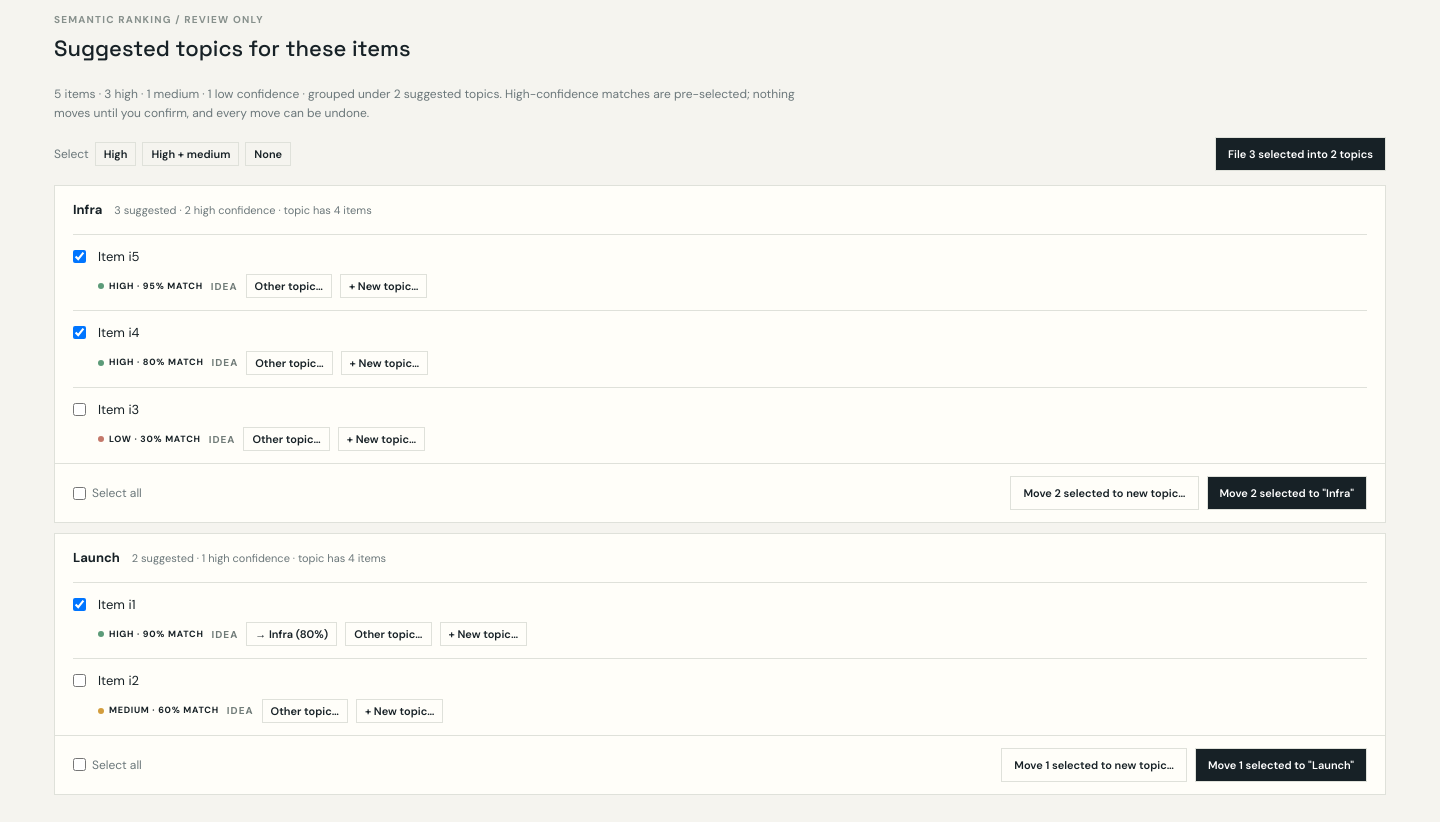
Test: SuggestedItemTopics › files every group's selection in one batch, hides it, and can undo to Uncategorized
Click the button "File 3 selected into 2 topics" at {"x": 1301, "y": 154}, box x1=1215 y1=137 x2=1386 y2=171
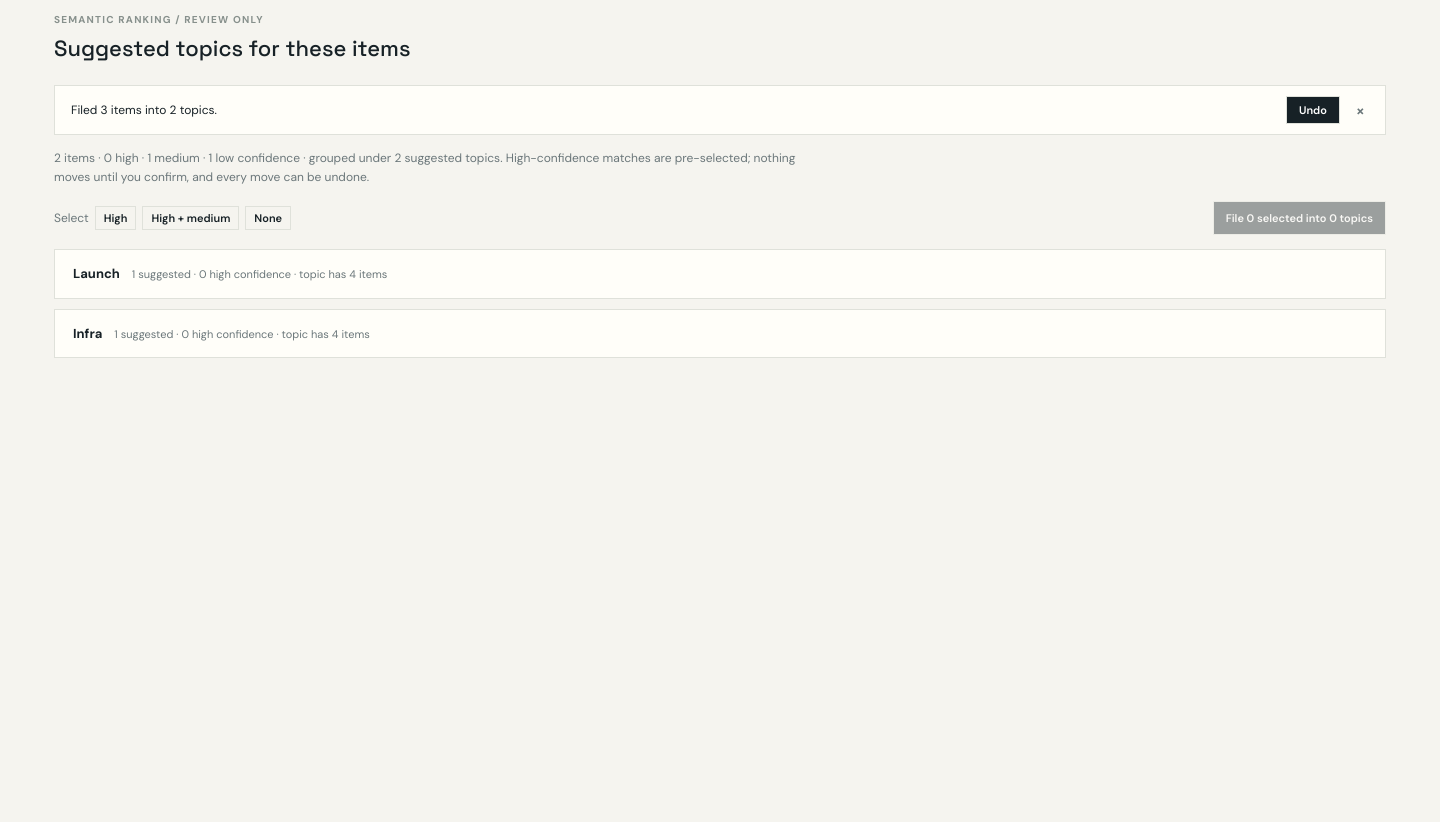
Check: the text "Item i5" is gone
Check: the message shows "Filed 3 items into 2 topics.", box x1=54 y1=85 x2=1386 y2=135
Click the button "Undo" at {"x": 1313, "y": 110}, box x1=1286 y1=96 x2=1340 y2=124
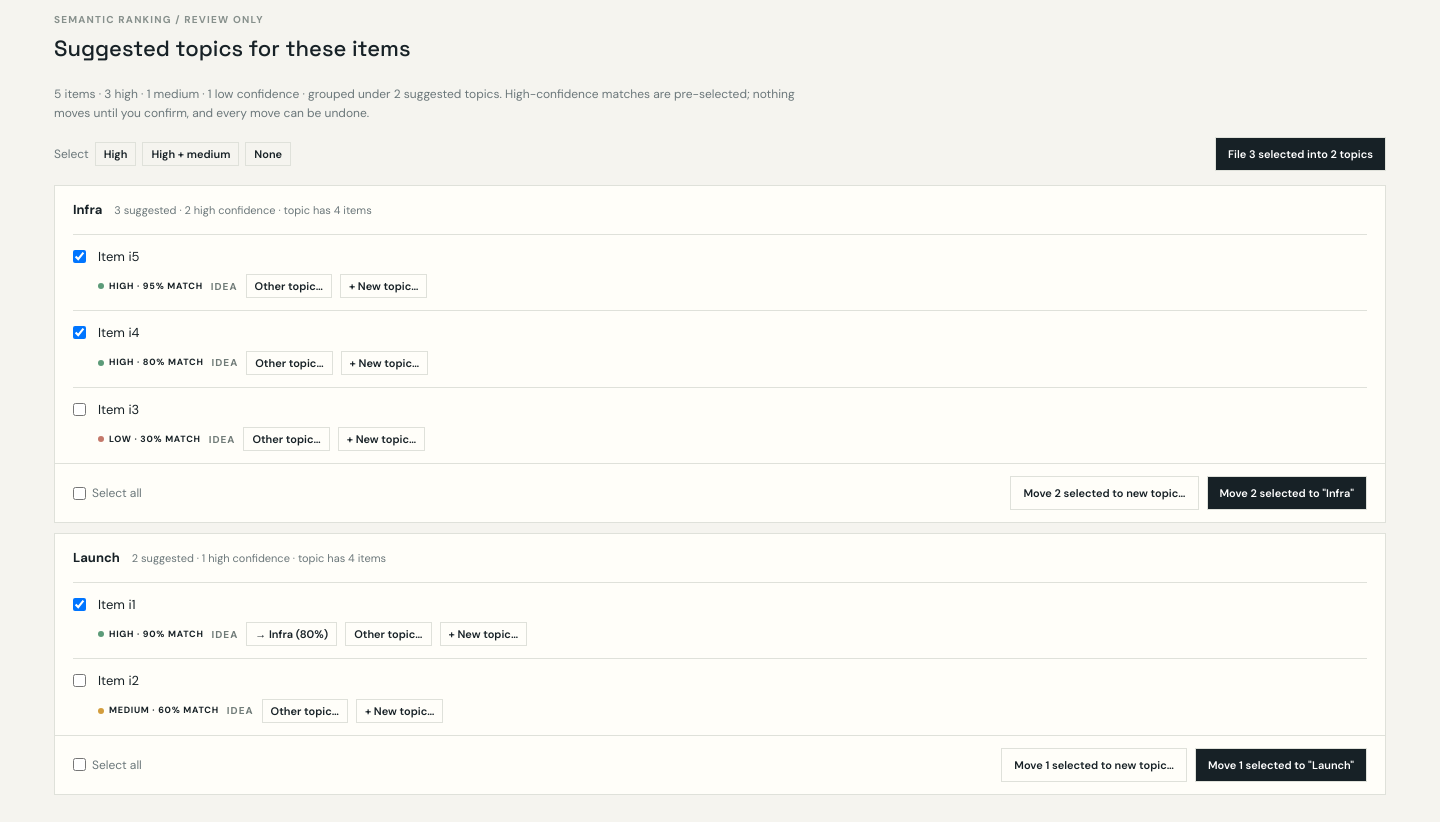
Check: the text "Item i5" is shown, box x1=98 y1=248 x2=139 y2=265
